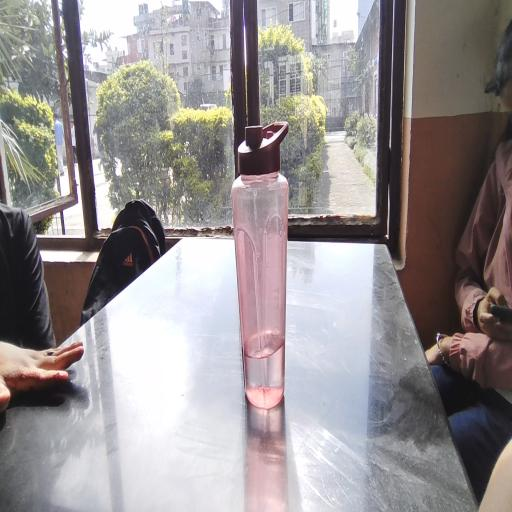Bottle: (225, 130, 318, 419)
